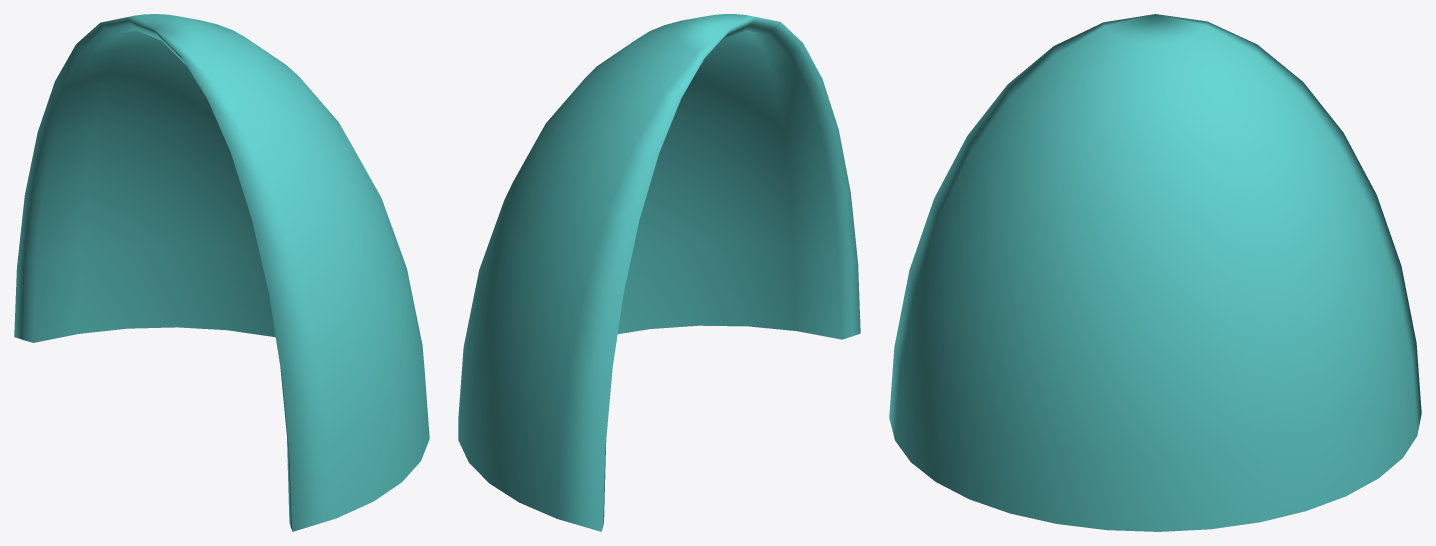
The model's file is PortalBacking.fbx.
3 views of the same model, side by side, from view 1: azimuth 30°, elevation 25°; view 2: azimuth 150°, elevation 25°; view 3: azimuth 270°, elevation 25° (orthographic).
Parts seen in each view (by area): view 1: Sphere; view 2: Sphere; view 3: Sphere.
Part boxes in pixels (x1,y1,x2,y2): Sphere: (14,14,429,531); Sphere: (458,14,860,531); Sphere: (889,14,1421,531).
Bounding box in the file's own units: 1068 × 1688 × 2028.
